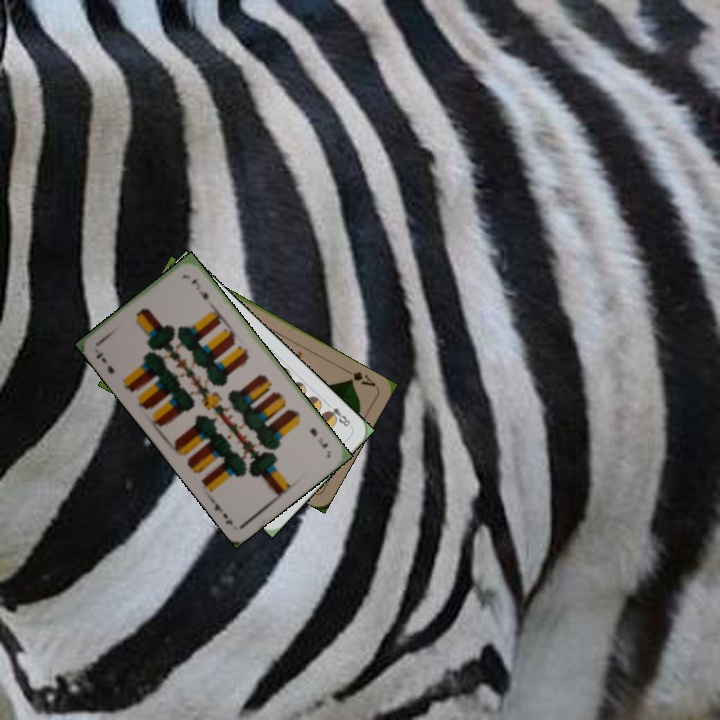E7: (306, 423, 331, 451), (92, 348, 117, 376)
E8: (321, 399, 354, 431)
GA: (340, 365, 378, 389)
